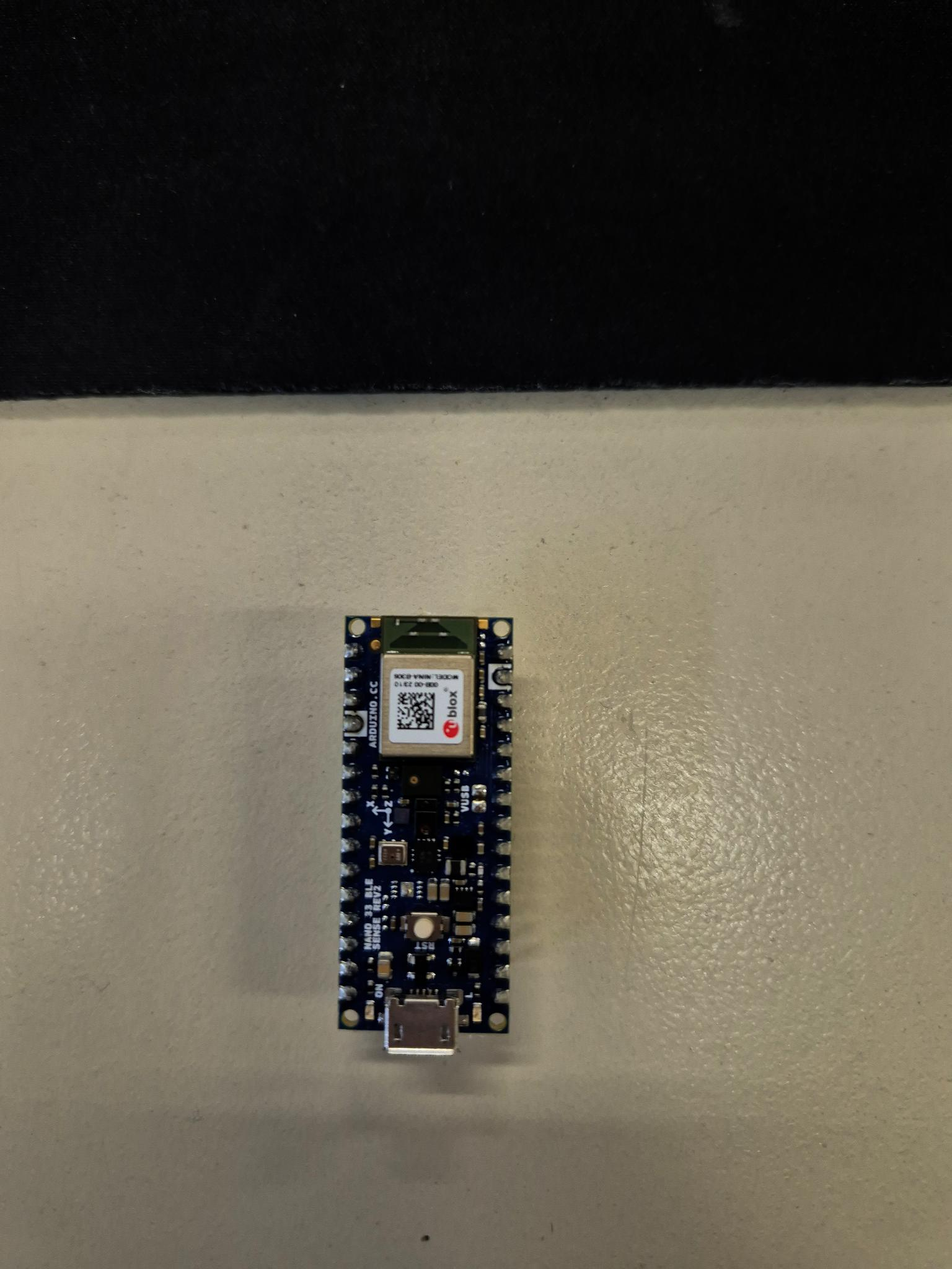arduino-nano-ble-sense: (339, 616, 512, 1055)
